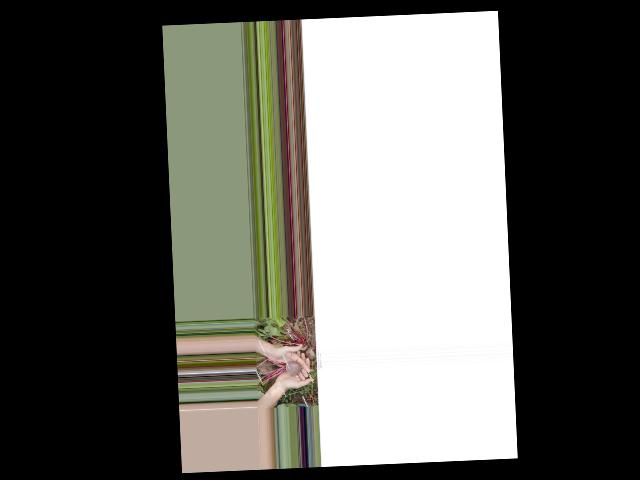beet: (256, 356, 303, 386)
